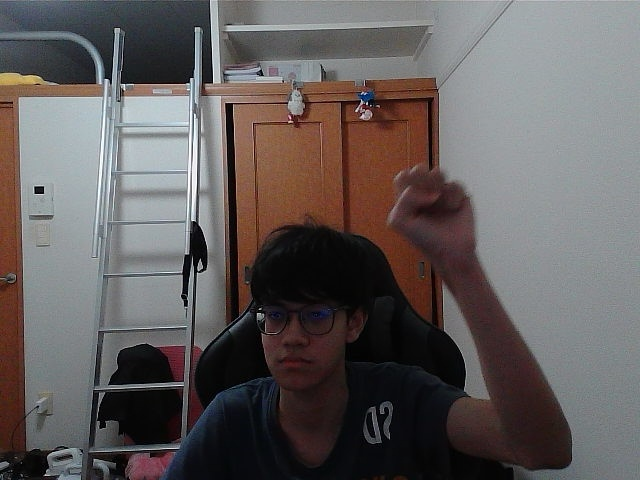closed_palm: (402, 171, 459, 255)
